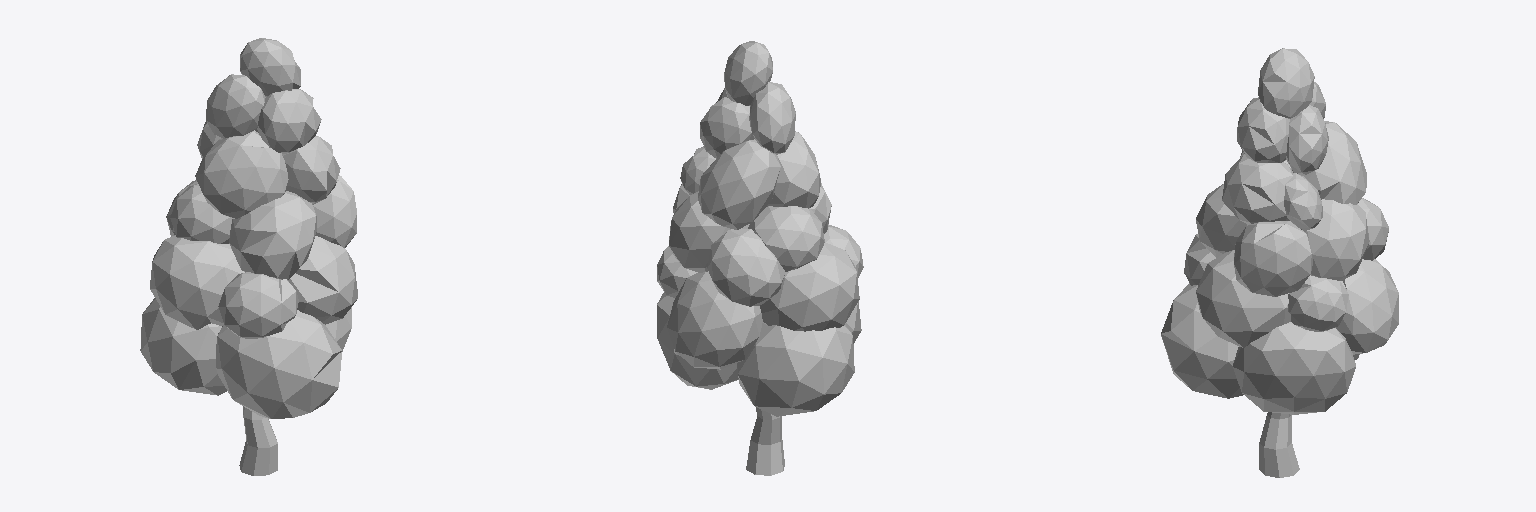
File: cook_baum.obj
3 views of the same model, side by side, from view 1: azimuth 30°, elevation 25°; view 2: azimuth 150°, elevation 25°; view 3: azimuth 270°, elevation 25° (orthographic).
Visible parts, largest first — view 1: cook_Poplar_Cylinder.003_Poplar_Cylinder.003; view 2: cook_Poplar_Cylinder.003_Poplar_Cylinder.003; view 3: cook_Poplar_Cylinder.003_Poplar_Cylinder.003.
Boxes of the visible parts, x1,y1,x2,y2 form: cook_Poplar_Cylinder.003_Poplar_Cylinder.003: [140, 38, 357, 475]; cook_Poplar_Cylinder.003_Poplar_Cylinder.003: [657, 41, 863, 475]; cook_Poplar_Cylinder.003_Poplar_Cylinder.003: [1161, 48, 1398, 477].
Size of the model in its own units: 2.69 by 5.82 by 2.96.